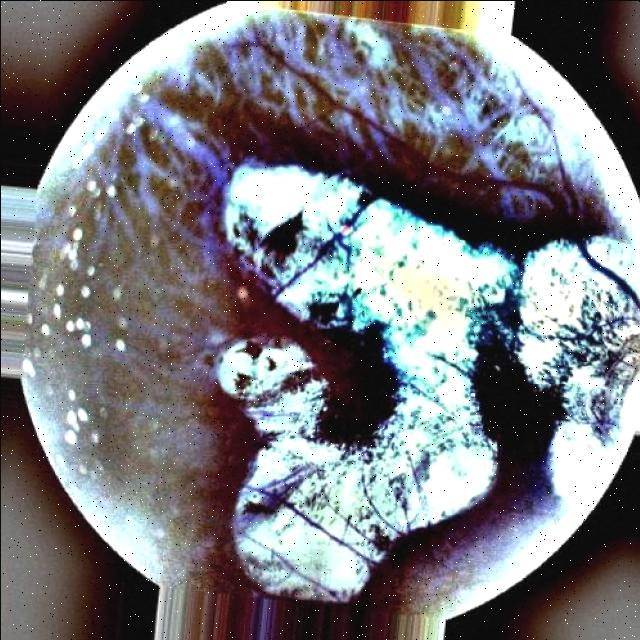Macula: (223, 283, 385, 438)
Nerves: (351, 81, 636, 301)
Optic Disk: (542, 239, 640, 519)
